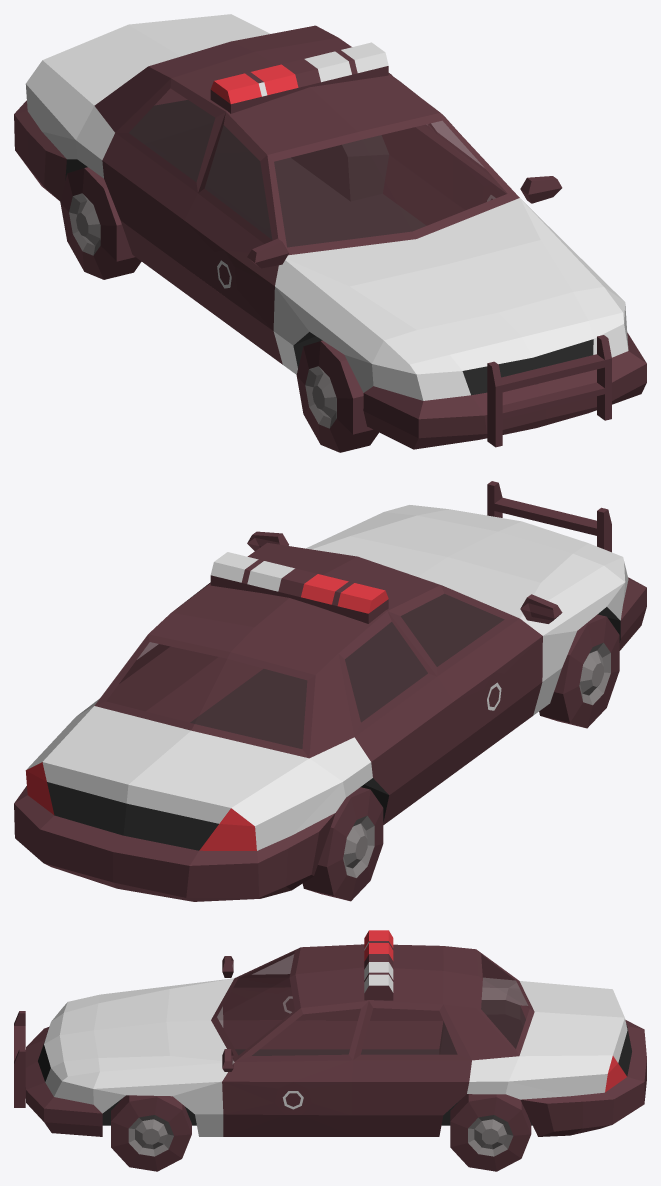
The model's file is car-police.fbx.
3 renders of one model, top to bottom at view 1: azimuth 30°, elevation 25°; view 2: azimuth 150°, elevation 25°; view 3: azimuth 270°, elevation 25°, orthographic. The views are drawn at different scales.
Parts seen in each view (by area): view 1: car-police-base, car-police-wheel_FR, car-police-wheel_BR; view 2: car-police-base, car-police-wheel_BR, car-police-wheel_FR; view 3: car-police-base, car-police-wheel_BL, car-police-wheel_FL.
Part boxes in pixels (box(x1,y1,x2,y2)): car-police-base: box(14, 14, 646, 449); car-police-wheel_FR: box(296, 340, 378, 452); car-police-wheel_BR: box(60, 167, 141, 279); car-police-base: box(14, 481, 646, 901); car-police-wheel_BR: box(302, 787, 383, 901); car-police-wheel_FR: box(539, 614, 619, 728); car-police-base: box(14, 930, 646, 1136); car-police-wheel_BL: box(450, 1094, 531, 1171); car-police-wheel_FL: box(111, 1095, 191, 1171).
Bounding box in the file's own units: 2.19 × 1.59 × 5.44.
